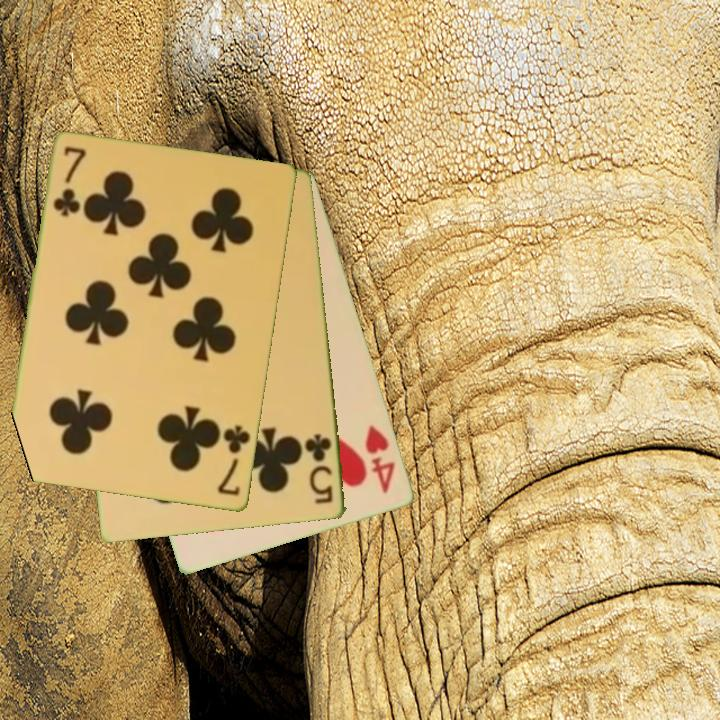4h: (362, 421, 399, 497)
5c: (301, 430, 337, 507)
7c: (214, 422, 254, 499), (50, 143, 89, 221)
